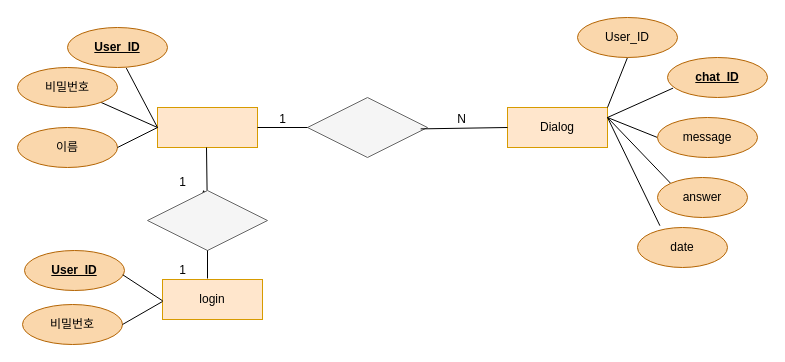
This 785x362 diagram has some shape labels left out. The box of each missing label's shape, as (x1, y1, x2, y2) in pixels:
User: (156, 106, 258, 148)
로그인: (146, 190, 268, 250)
입력: (306, 96, 428, 158)
